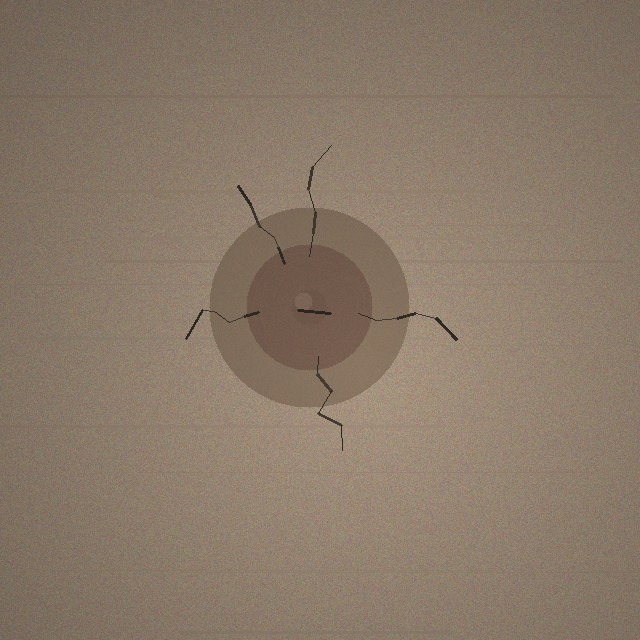crack: (209, 207, 409, 407)
